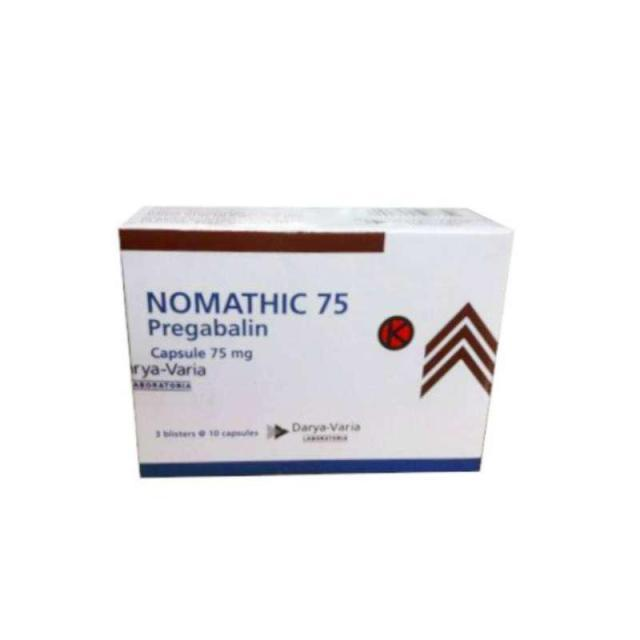drug-name: (144, 288, 350, 314)
